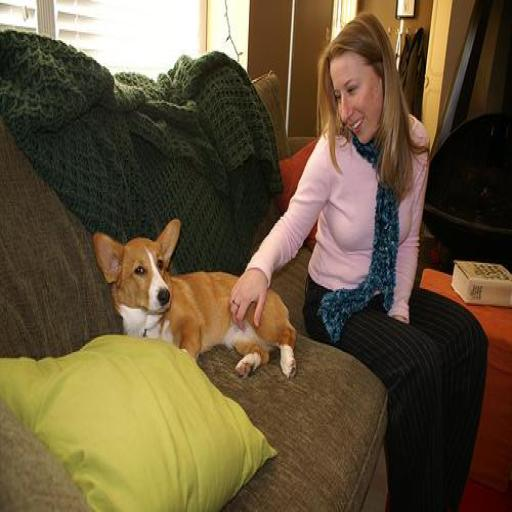dog_face: (90, 220, 177, 323)
